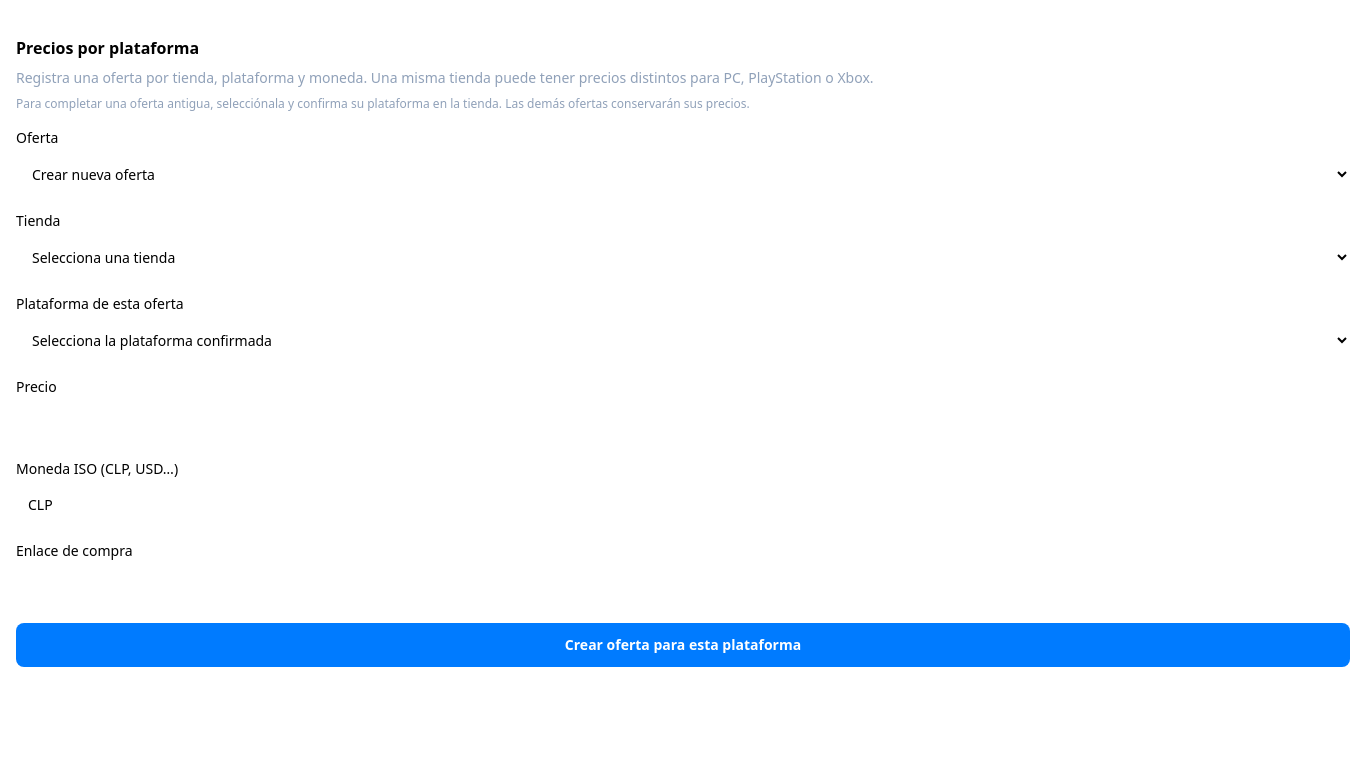
Test case: Formulario administrativo › no anuncia éxito cuando el backend rechaza una oferta duplicada
Select "Tienda de prueba · PS5 · $30.000 CLP" in the dropdown labelled "Oferta" at [683, 174], box x1=16 y1=154 x2=1350 y2=195
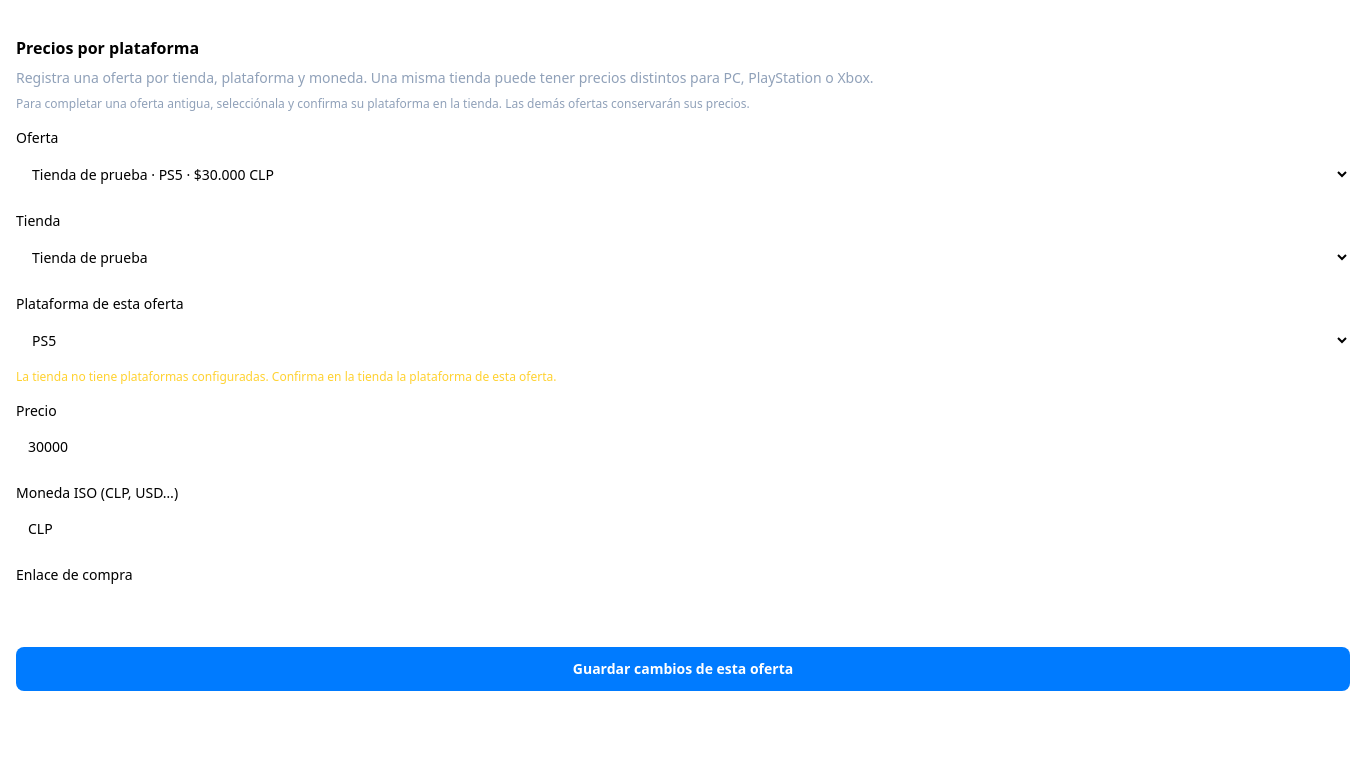
Select "PC" in the dropdown labelled "Plataforma de esta oferta" at [683, 340], box x1=16 y1=320 x2=1350 y2=361
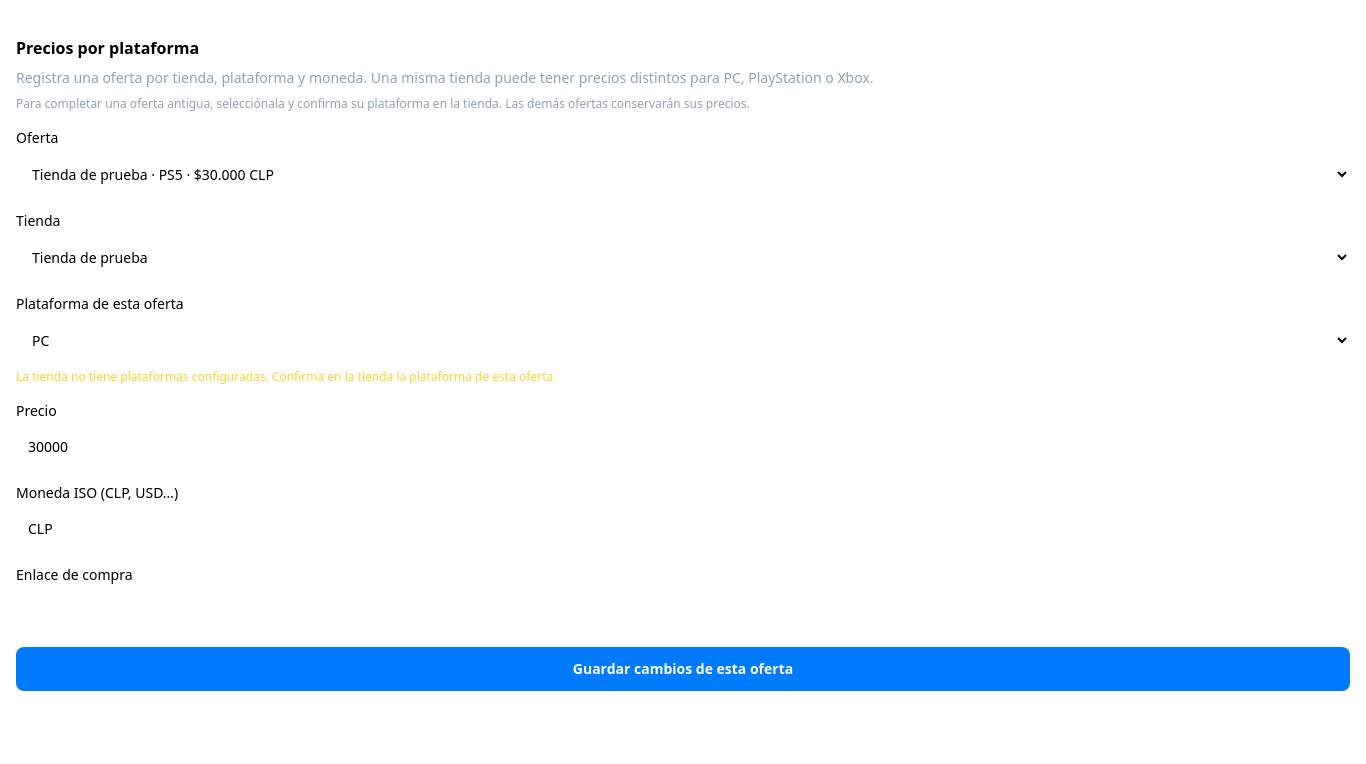
Click the button "Guardar cambios de esta oferta" at [683, 669], box x1=16 y1=647 x2=1350 y2=691
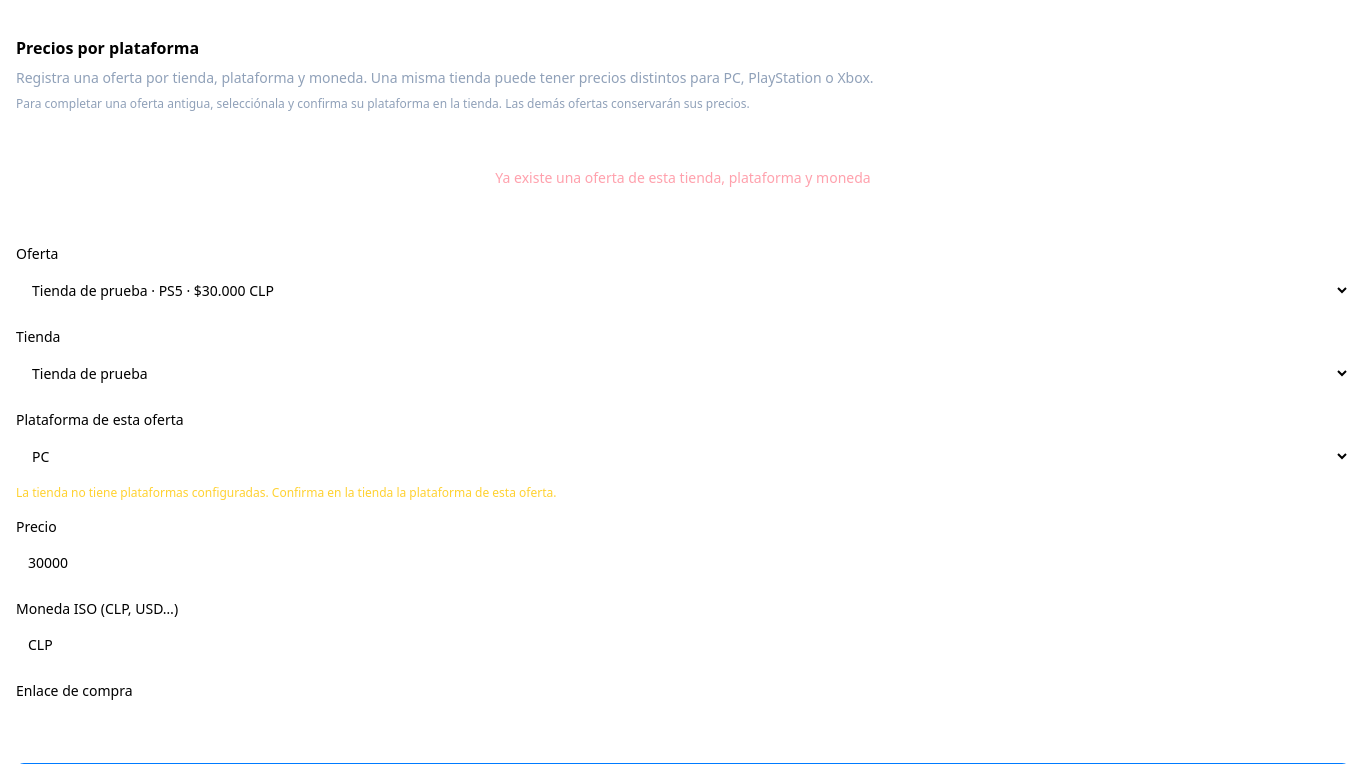
Now the message shows "Ya existe una oferta", box x1=495 y1=168 x2=871 y2=187
